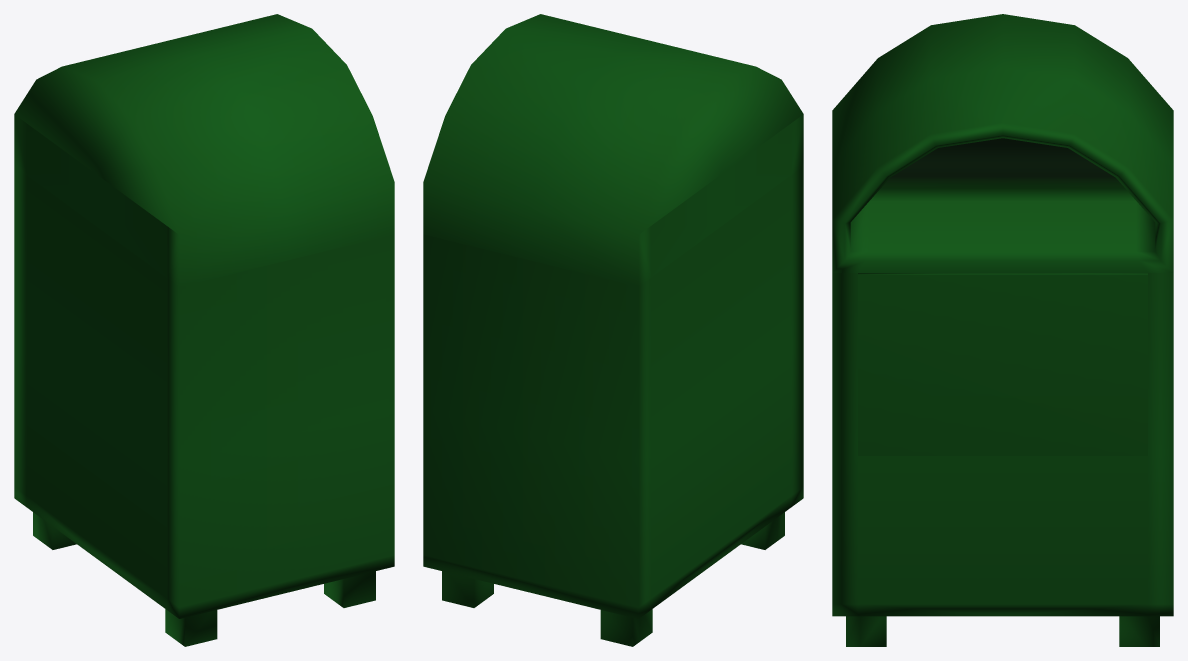
The model's file is CNJ_ClothBox_SM__1.fbx.
3 renders of one model, left to right at view 1: azimuth 30°, elevation 25°; view 2: azimuth 150°, elevation 25°; view 3: azimuth 270°, elevation 25°, orthographic. The views are drawn at different scales.
Parts seen in each view (by area): view 1: CNJ_ClothBox_SM__1; view 2: CNJ_ClothBox_SM__1; view 3: CNJ_ClothBox_SM__1.
Part boxes in pixels (x1=…): CNJ_ClothBox_SM__1: x1=14, y1=14, x2=394, y2=646; CNJ_ClothBox_SM__1: x1=423, y1=14, x2=803, y2=646; CNJ_ClothBox_SM__1: x1=832, y1=14, x2=1173, y2=646.
Bounding box in the file's own units: 60.35 × 135 × 78.48.
